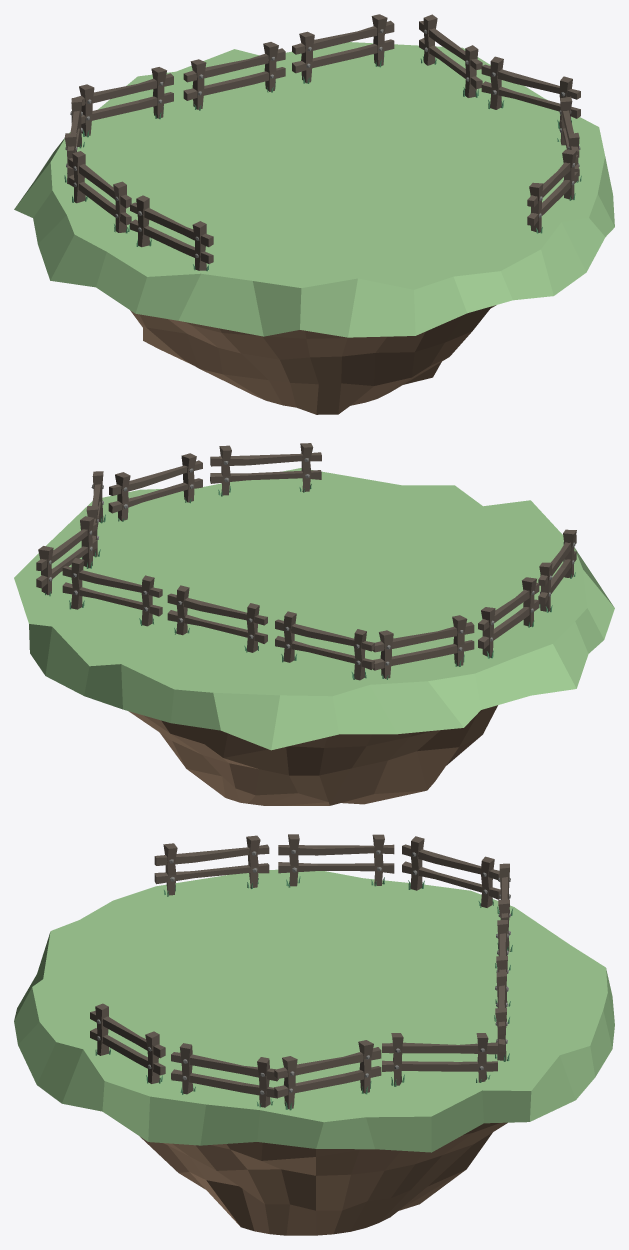
The model's file is fence.gltf.
3 renders of one model, top to bottom at view 1: azimuth 30°, elevation 25°; view 2: azimuth 150°, elevation 25°; view 3: azimuth 270°, elevation 25°, orthographic. The views are drawn at different scales.
Visible parts, largest first — view 1: Cylinder, Cube.007, Cube.005, Cube.004, Cube.008, Cube.003, Cube.002, Cube.006, Cube.010, Cube.001, Cube.009; view 2: Cylinder, Cube.001, Cube.010, Cube.007, Cube.004, Cube.005, Cube.009, Cube.002, Cube.006, Cube.008, Cube.003; view 3: Cylinder, Cube.006, Cube.003, Cube.008, Cube.002, Cube.009, Cube.001, Cube.010, Cube.007, Cube.004, Cube.005.
Boxes of the visible parts, <box> form: Cylinder: <box>14,42,614,414</box>; Cube.007: <box>292,14,394,83</box>; Cube.005: <box>183,42,285,110</box>; Cube.004: <box>71,67,173,137</box>; Cube.008: <box>130,195,213,271</box>; Cube.003: <box>481,56,580,129</box>; Cube.002: <box>68,151,131,233</box>; Cube.006: <box>419,14,482,97</box>; Cube.010: <box>527,149,578,233</box>; Cube.001: <box>64,98,84,183</box>; Cube.009: <box>557,96,581,182</box>; Cylinder: <box>14,468,614,805</box>; Cube.001: <box>373,615,474,679</box>; Cube.010: <box>210,443,321,496</box>; Cube.007: <box>62,558,162,626</box>; Cube.004: <box>275,611,374,680</box>; Cube.005: <box>167,585,267,652</box>; Cube.009: <box>108,453,202,521</box>; Cube.002: <box>478,577,539,658</box>; Cube.006: <box>36,516,97,596</box>; Cube.008: <box>538,529,576,612</box>; Cube.003: <box>86,471,105,557</box>; Cylinder: <box>14,869,614,1235</box>; Cube.006: <box>382,1033,497,1086</box>; Cube.003: <box>274,1040,381,1110</box>; Cube.008: <box>154,835,269,896</box>; Cube.002: <box>278,834,394,887</box>; Cube.009: <box>171,1043,278,1107</box>; Cube.001: <box>402,836,500,907</box>; Cube.010: <box>90,1003,165,1083</box>; Cube.007: <box>494,972,509,1061</box>; Cube.004: <box>497,863,513,951</box>; Cube.005: <box>495,920,510,1006</box>.
Size of the model in its own units: 39.74 by 18.22 by 38.63.
